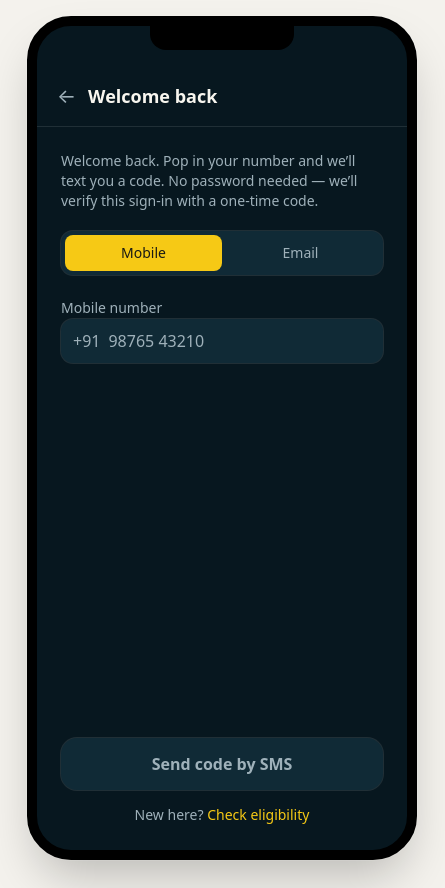
Scenario: SignIn › known contact → sends OTP and advances to the code step
Type "9812345678" into the field with placeholder "98765 43210" at point(240, 341), box [108,329,371,353]
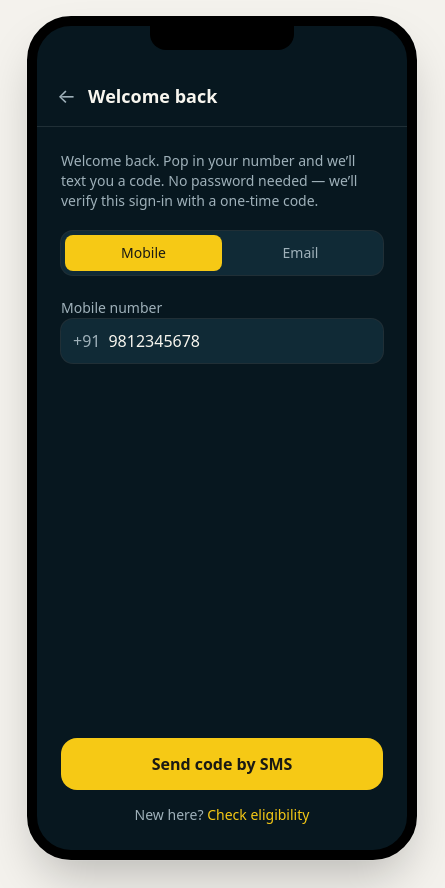
Click the button "Send code by SMS" at point(222, 764), box [61,738,383,790]
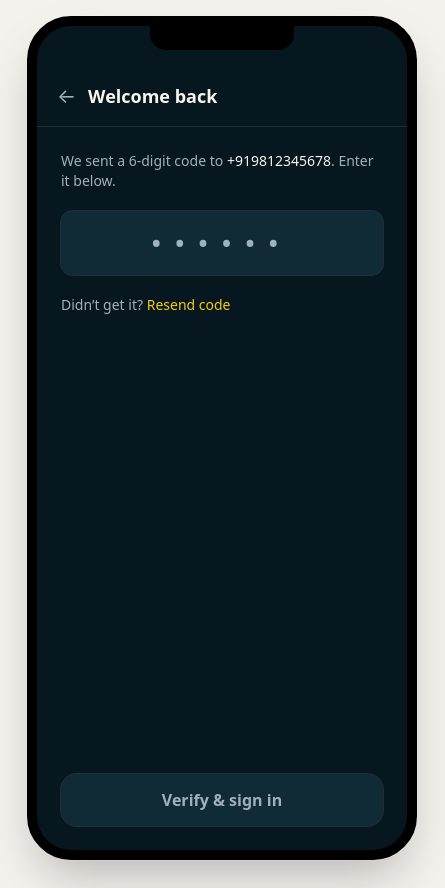
Check: the button "Verify & sign in" is shown, box [61,774,383,826]
